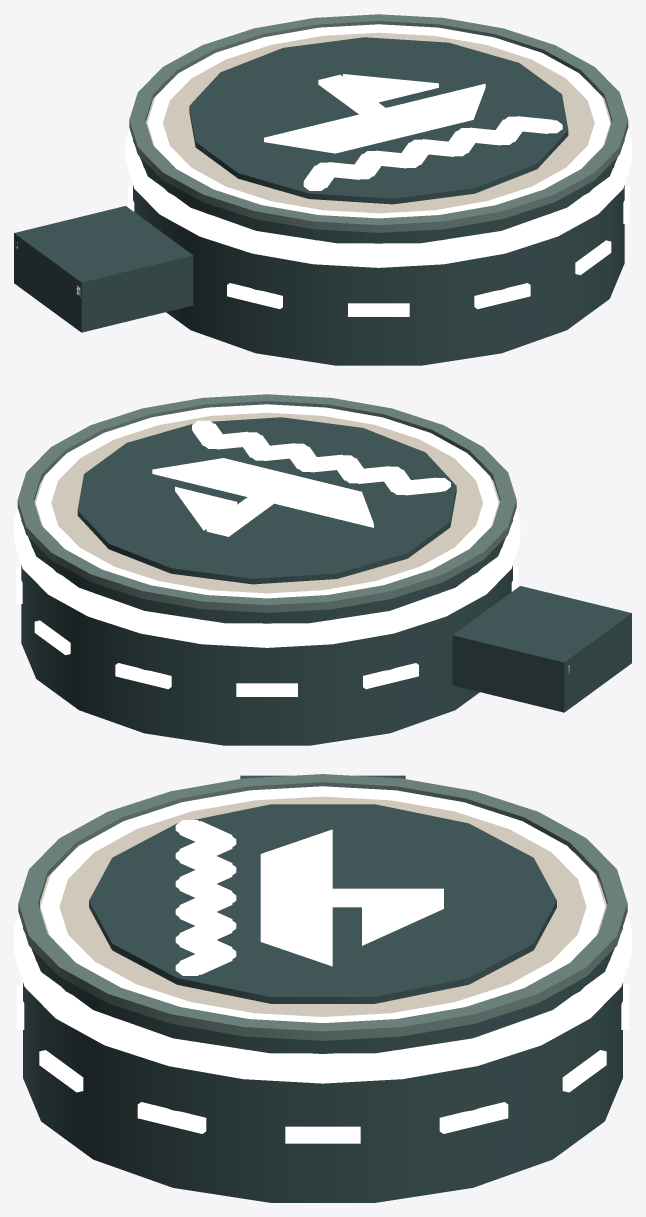
Rendered from Relay_Button_Ferry_v3_lab.glb.
3 renders of one model, top to bottom at view 1: azimuth 30°, elevation 25°; view 2: azimuth 150°, elevation 25°; view 3: azimuth 270°, elevation 25°, orthographic. The views are drawn at different scales.
Parts seen in each view (by area): view 1: Relay_Button_Ferry_v3, Glyph, Strut; view 2: Relay_Button_Ferry_v3, Glyph, Strut; view 3: Relay_Button_Ferry_v3, Glyph.
Boxes of the visible parts, box(x1,y1,x2,y2) form: Relay_Button_Ferry_v3: box(125, 14, 631, 365); Glyph: box(189, 37, 568, 204); Strut: box(14, 206, 193, 332); Relay_Button_Ferry_v3: box(14, 394, 520, 745); Glyph: box(77, 417, 456, 584); Strut: box(452, 586, 631, 712); Relay_Button_Ferry_v3: box(14, 774, 631, 1202); Glyph: box(89, 804, 556, 1003).
Bounding box in the file's own units: 5.17 × 2.05 × 4.12.
